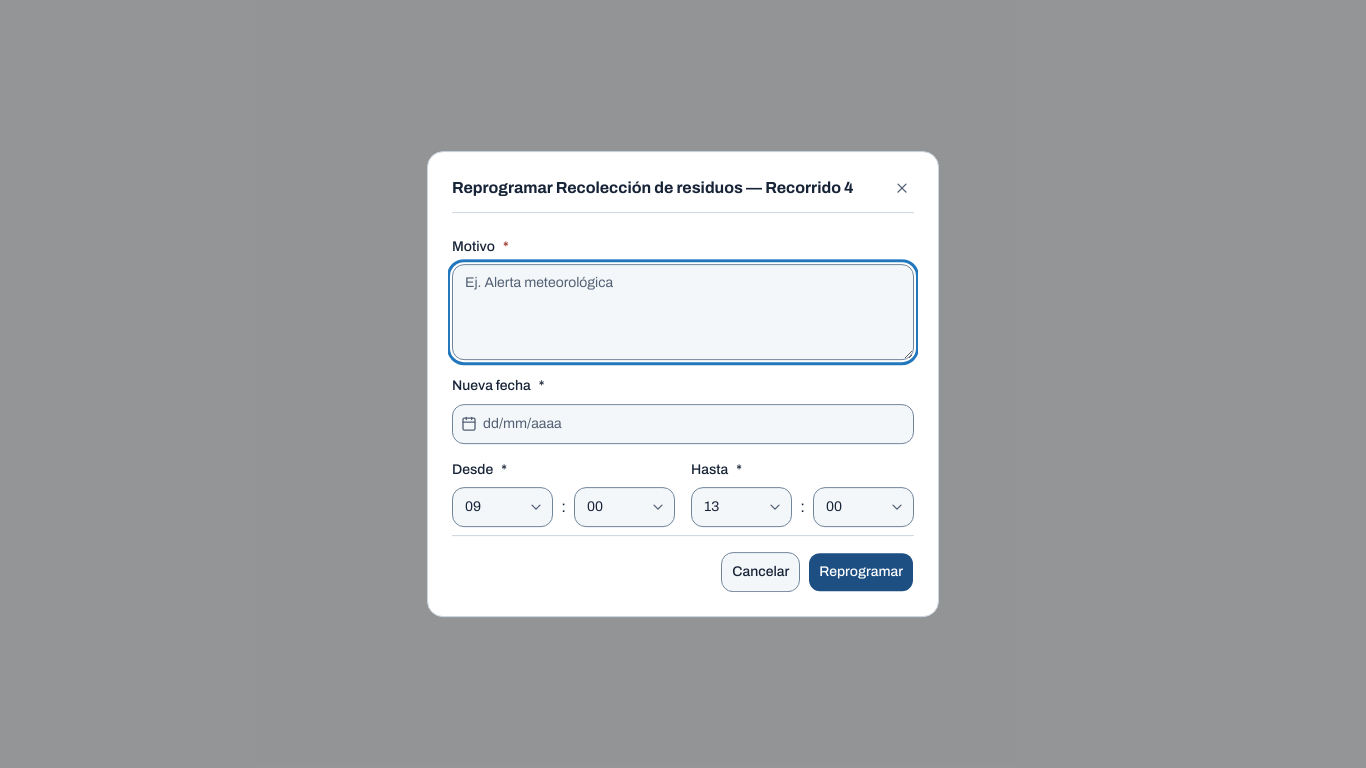
it: service dialog validation associations › associates reschedule reason errors with the reason field
What coordinates should you click on to do the following:
click the button "Reprogramar"
I would click on:
 (861, 572)
Its box is x1=808 y1=552 x2=914 y2=592.
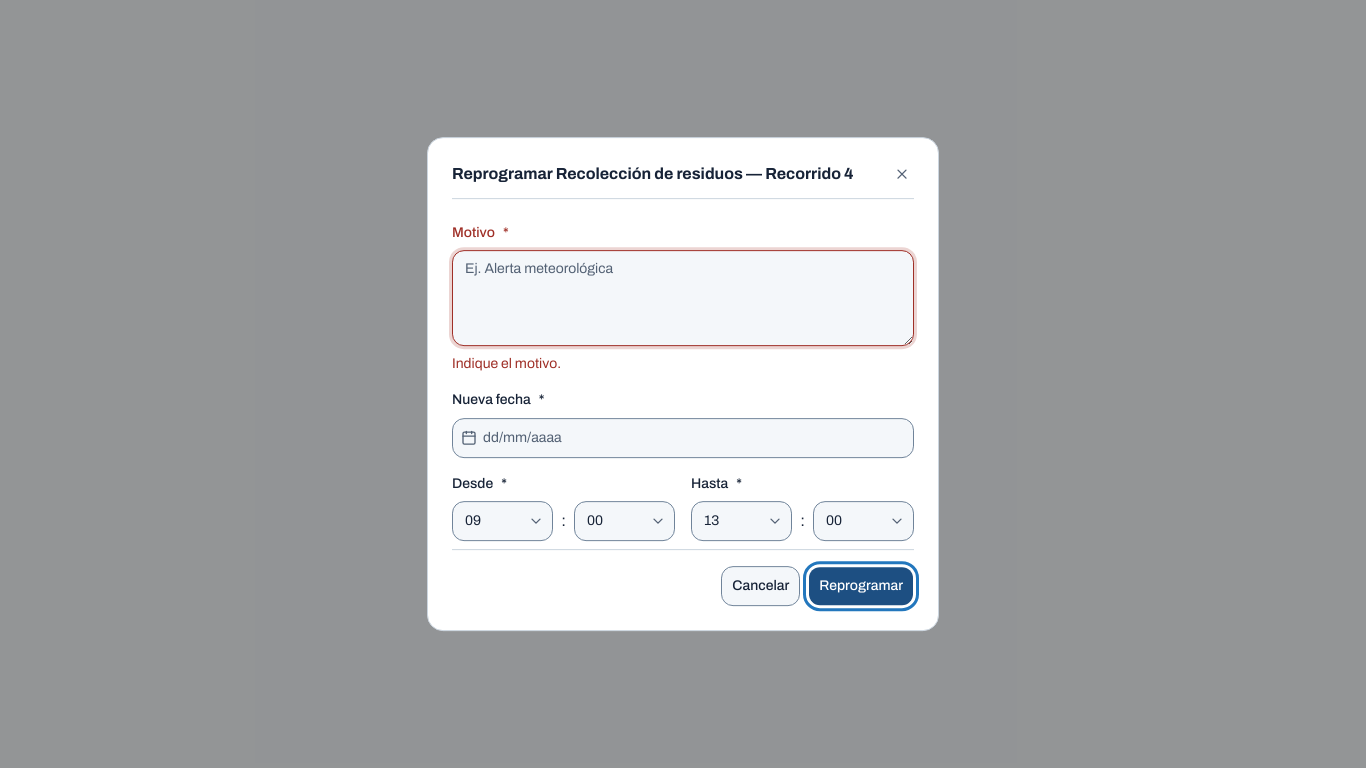
Result: the message "Indique el motivo." is shown at x1=452 y1=356 x2=561 y2=371
